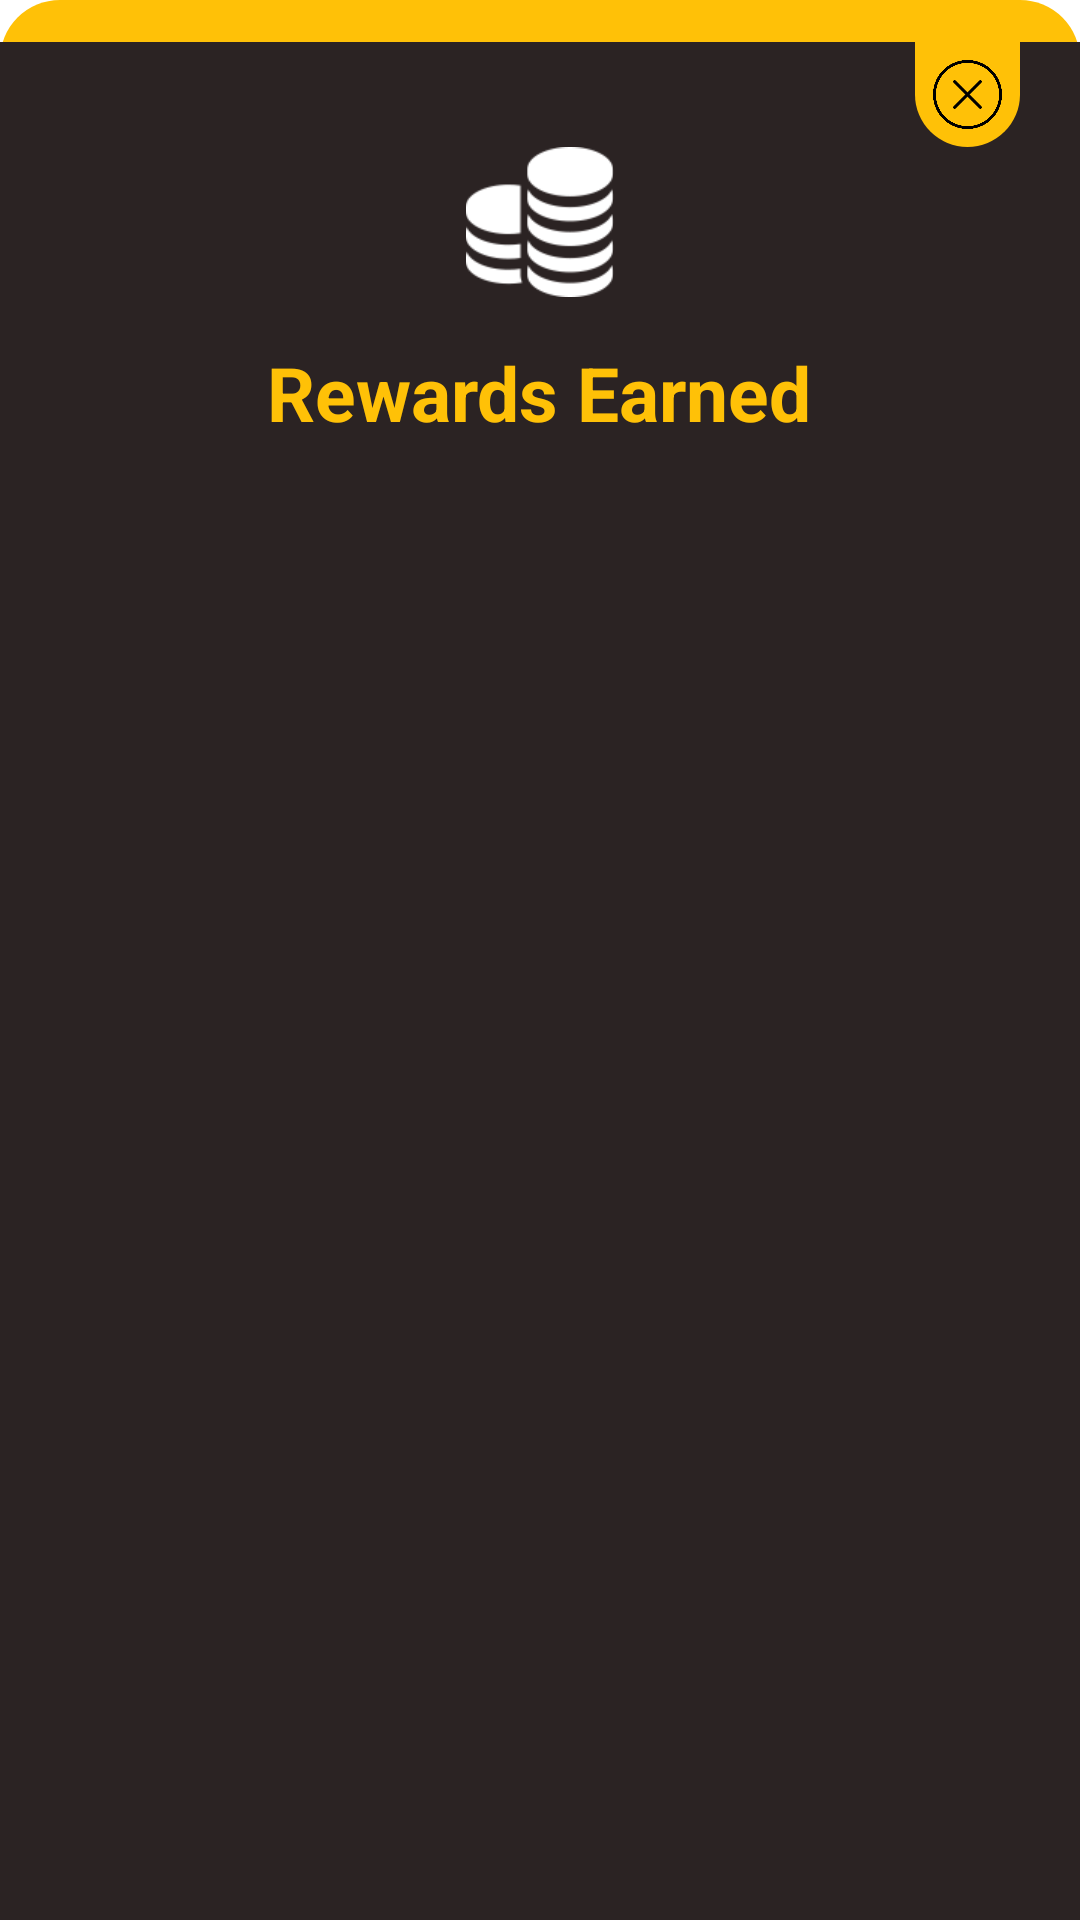

Icon click points for this 1080 x 1920 phone screenshot, format [x,y]:
closebtn: [967,94]
walletbalance: [539,222]
